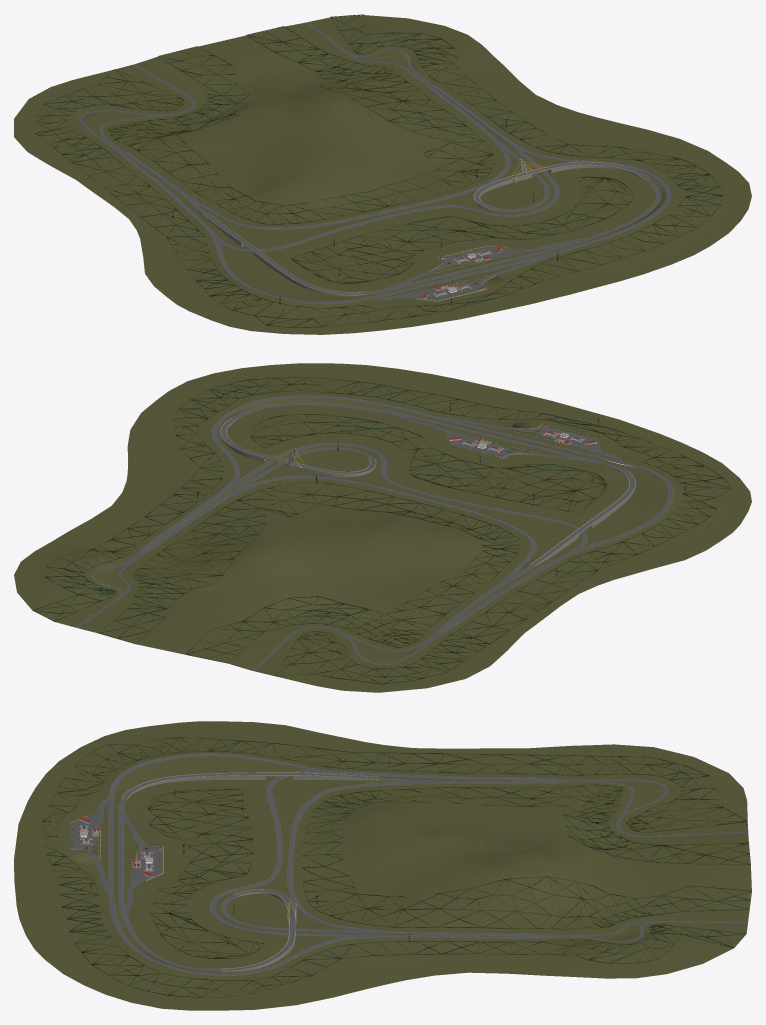
File: track drag reskin kuli 4.fbx
3 views of the same model, one above another, from view 1: azimuth 30°, elevation 25°; view 2: azimuth 150°, elevation 25°; view 3: azimuth 270°, elevation 25° (orthographic). The views are drawn at different scales.
Visible parts, largest first — view 1: _MeshSplit_terrain, _MeshSplit_jalan, sawah01, sawah02, sawah20, sawah22, sawah24, sawah12, sawah03, sawah13, sawah09, sawah19 (+10 smaller); view 2: _MeshSplit_terrain, _MeshSplit_jalan, sawah01, sawah02, sawah22, sawah20, sawah24, sawah12, sawah09, sawah03, sawah13, sawah19 (+9 smaller); view 3: _MeshSplit_terrain, _MeshSplit_jalan, sawah02, sawah01, sawah20, sawah22, sawah24, sawah03, sawah19, sawah13, sawah09, sawah12 (+10 smaller).
Boxes of the visible parts, <box> form: _MeshSplit_terrain: <box>14,15,751,334</box>; _MeshSplit_jalan: <box>79,22,671,303</box>; sawah01: <box>246,14,454,78</box>; sawah02: <box>319,48,495,120</box>; sawah20: <box>89,118,193,204</box>; sawah22: <box>35,74,249,135</box>; sawah24: <box>84,46,234,111</box>; sawah12: <box>394,216,523,311</box>; sawah03: <box>389,96,536,156</box>; sawah13: <box>291,223,424,284</box>; sawah09: <box>514,203,663,271</box>; sawah19: <box>126,198,325,237</box>; _MeshSplit_terrain: <box>14,363,751,692</box>; _MeshSplit_jalan: <box>75,395,673,671</box>; sawah01: <box>32,557,192,643</box>; sawah02: <box>59,517,258,589</box>; sawah22: <box>228,596,450,684</box>; sawah20: <box>345,590,551,647</box>; sawah24: <box>186,625,351,677</box>; sawah12: <box>409,411,620,490</box>; sawah09: <box>317,381,459,445</box>; sawah03: <box>145,487,297,538</box>; sawah13: <box>458,464,606,512</box>; sawah19: <box>462,520,597,601</box>; _MeshSplit_terrain: <box>14,721,751,1010</box>; _MeshSplit_jalan: <box>70,753,748,976</box>; sawah02: <box>472,876,616,963</box>; sawah01: <box>603,885,751,963</box>; sawah20: <box>438,753,622,818</box>; sawah22: <box>563,756,721,862</box>; sawah24: <box>626,799,750,864</box>; sawah03: <box>359,888,494,955</box>; sawah19: <box>308,752,444,824</box>; sawah13: <box>148,788,253,851</box>; sawah09: <box>60,893,208,944</box>; sawah12: <box>42,812,253,880</box>.
Size of the model in its own units: 89565 by 5529 by 96475.
Materials: 17 (17 with a texture image).
